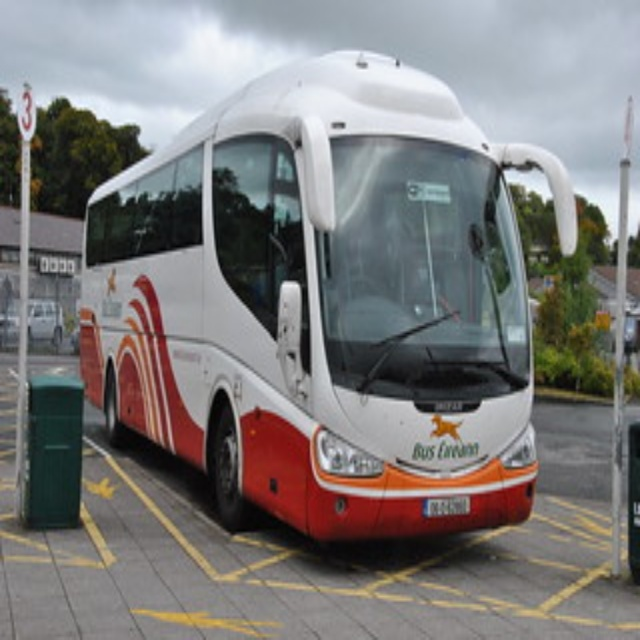Bus: (80, 51, 572, 544)
